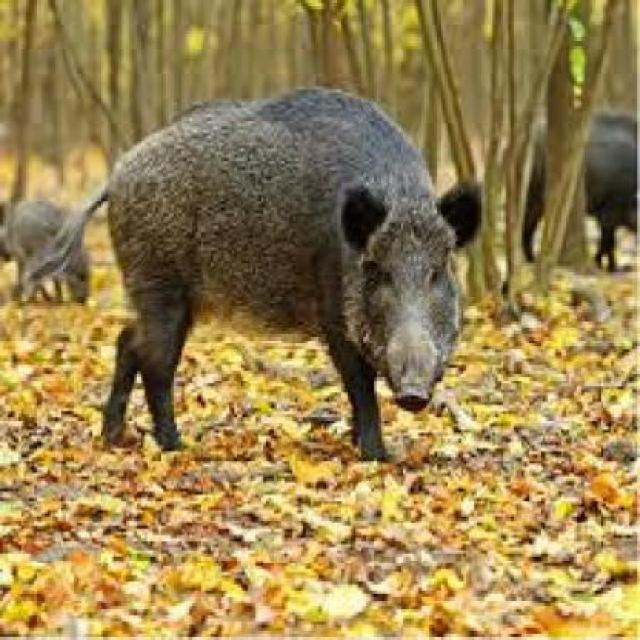wildboar: (36, 77, 490, 468), (486, 102, 640, 276), (0, 186, 108, 311)
